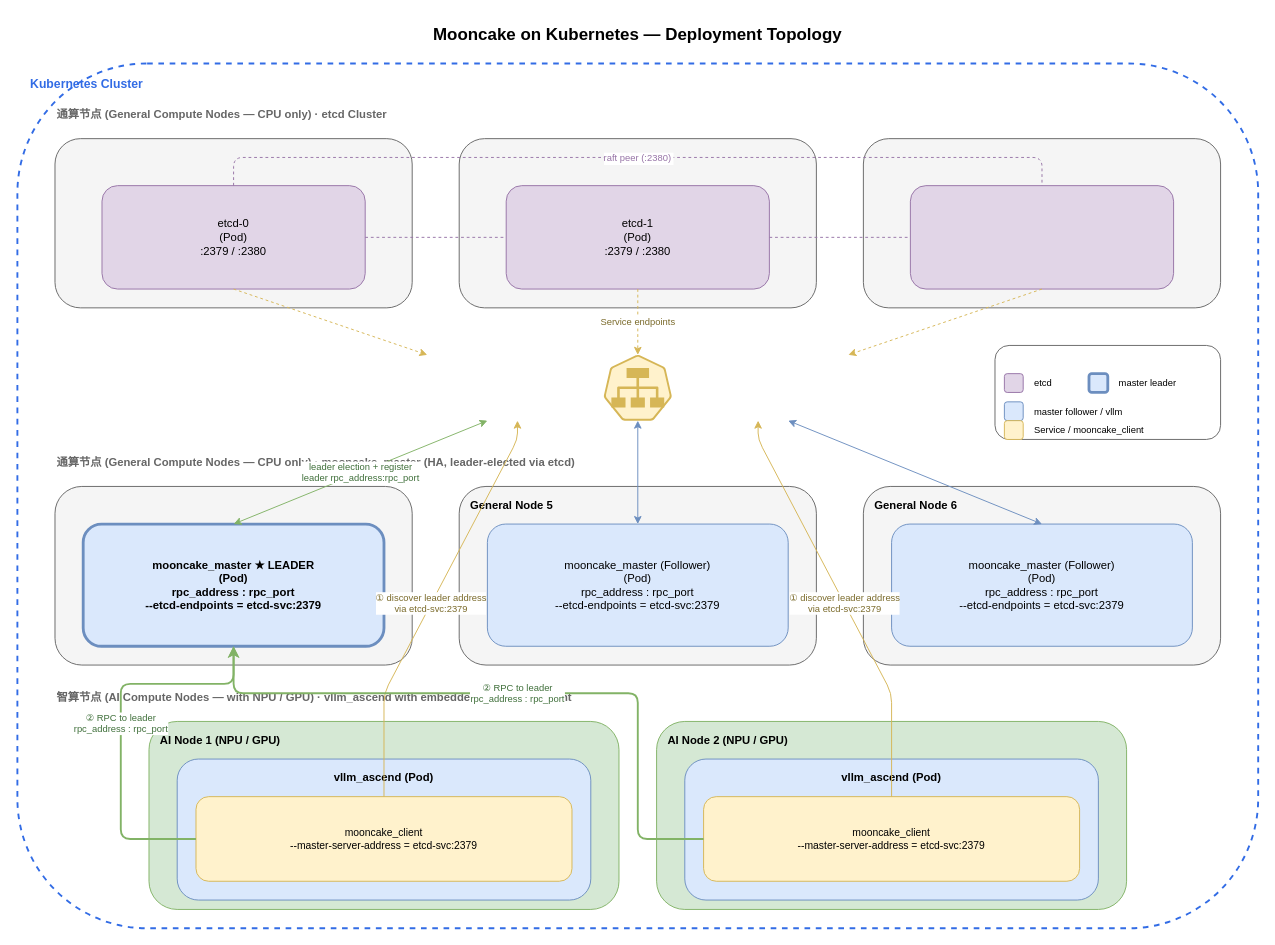
Image size: 1275x945. Some labels were removed from this diagram. Each missing label, with the box of its shape:
etcd Service (ClusterIP) etcd-svc.mooncake.svc.cluster.local : 2379: (336, 354, 939, 421)
etcd-2 (Pod) :2379 / :2380: (909, 185, 1174, 289)
General Node 1: (54, 138, 412, 308)
General Node 2: (458, 138, 816, 308)
General Node 3: (862, 138, 1221, 308)
General Node 4: (54, 486, 412, 665)
Legend: (994, 345, 1221, 439)
